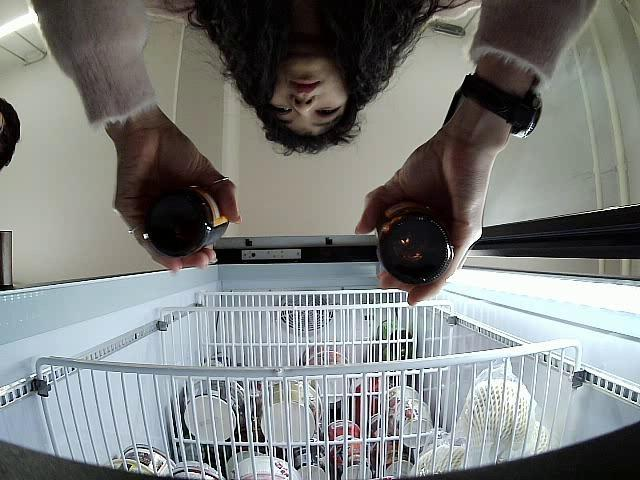17_vita500: (144, 184, 230, 260), (374, 207, 454, 284)
